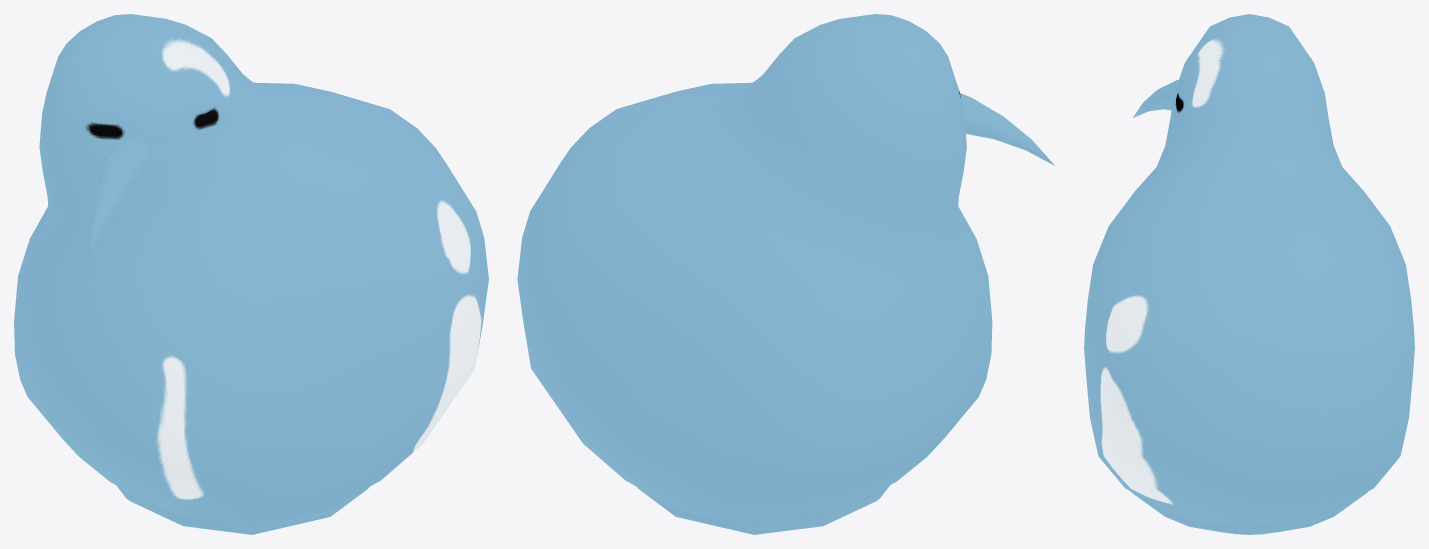
The model's file is Bank.fbx.
3 views of the same model, side by side, from view 1: azimuth 30°, elevation 25°; view 2: azimuth 150°, elevation 25°; view 3: azimuth 270°, elevation 25° (orthographic). The views are drawn at different scales.
Visible parts, largest first — view 1: Bank; view 2: Bank; view 3: Bank.
Part boxes in pixels (box(x1,y1,x2,y2)): Bank: box(14, 14, 488, 534); Bank: box(517, 14, 1054, 534); Bank: box(1084, 14, 1414, 534).
Size of the model in its own units: 102 by 105 by 75.17.
